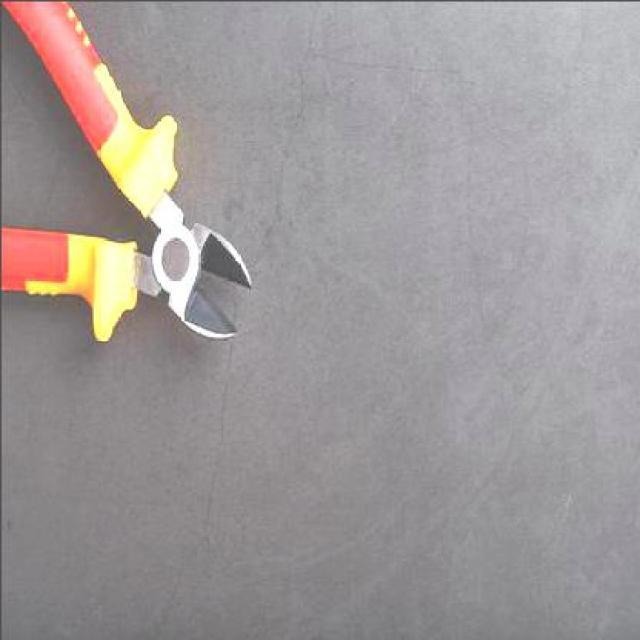pliers: (1, 1, 252, 344)
